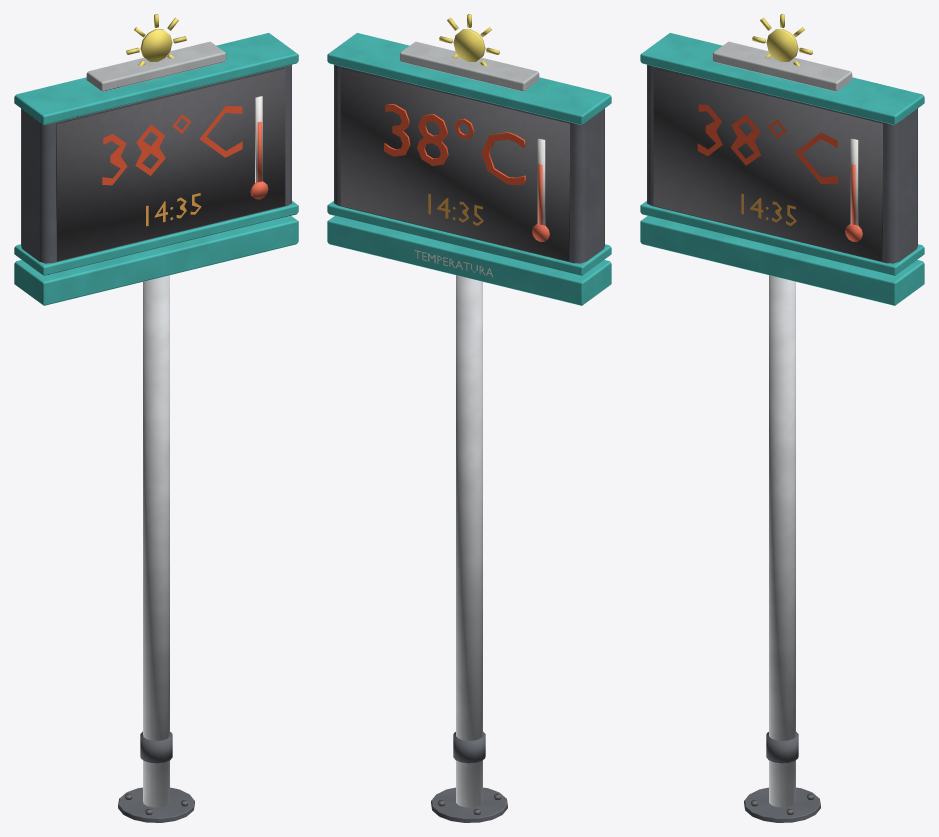
Rendered from Calor_StreetThermometer.fbx.
The picture shows the model from 3 angles, left to right: view 1: azimuth 30°, elevation 25°; view 2: azimuth 150°, elevation 25°; view 3: azimuth 330°, elevation 25°; orthographic projection.
Parts seen in each view (by area): view 1: Calor_StreetThermometer; view 2: Calor_StreetThermometer; view 3: Calor_StreetThermometer.
Part boxes in pixels (x1,y1,x2,y2): Calor_StreetThermometer: (14, 14, 298, 822); Calor_StreetThermometer: (327, 14, 611, 822); Calor_StreetThermometer: (640, 14, 924, 822).
Bounding box in the file's own units: 1.53 × 4.51 × 0.4.
Materials: 1 (1 with a texture image).
